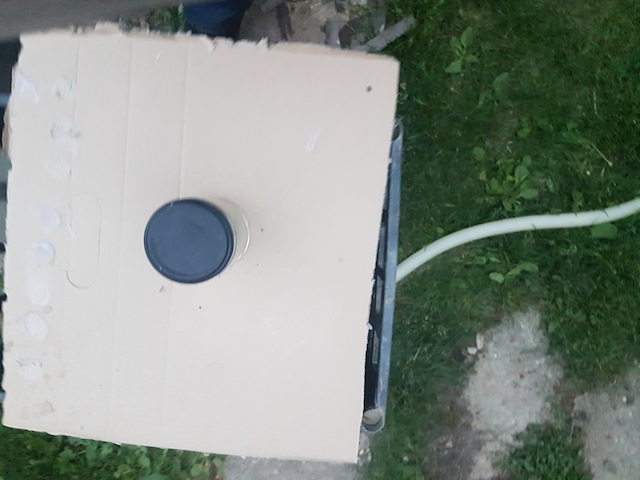recipient: (142, 199, 232, 288)
